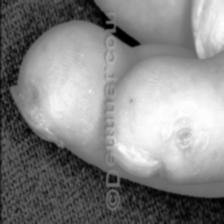Unclassified: (16, 74, 45, 108), (174, 122, 195, 155)
